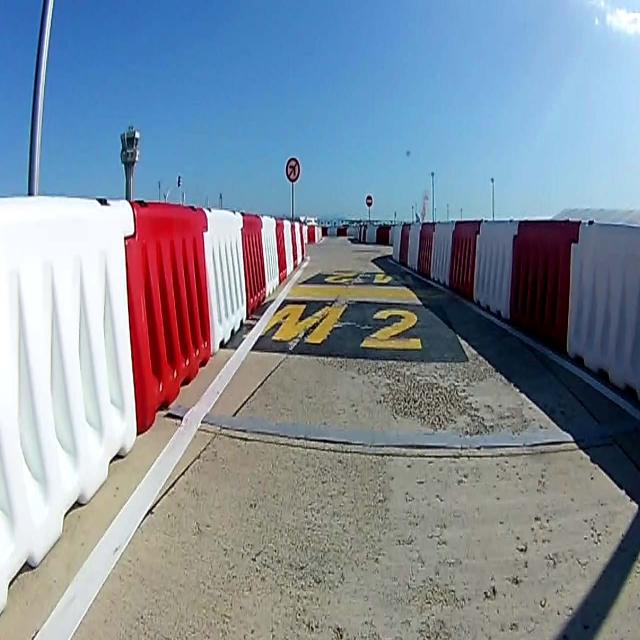girisyok: (365, 196, 373, 208)
soladonulmez: (285, 158, 300, 182)
